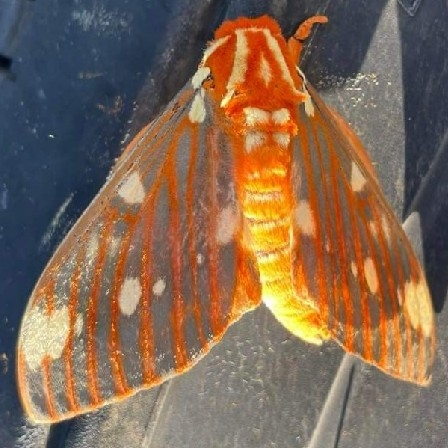Not_a_Chicken: (18, 16, 436, 426)
